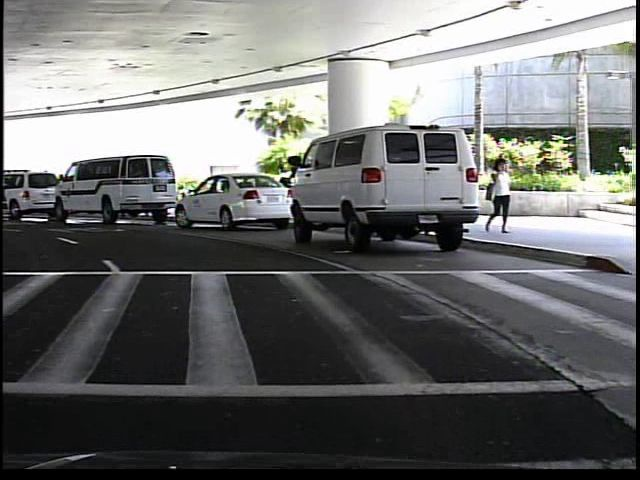person: (481, 152, 513, 236)
